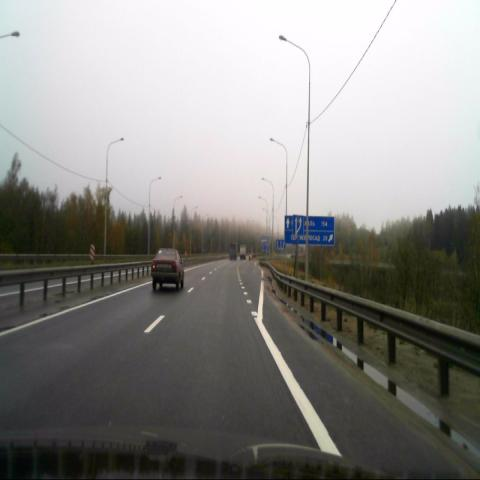5_15_3: (294, 213, 303, 236)
